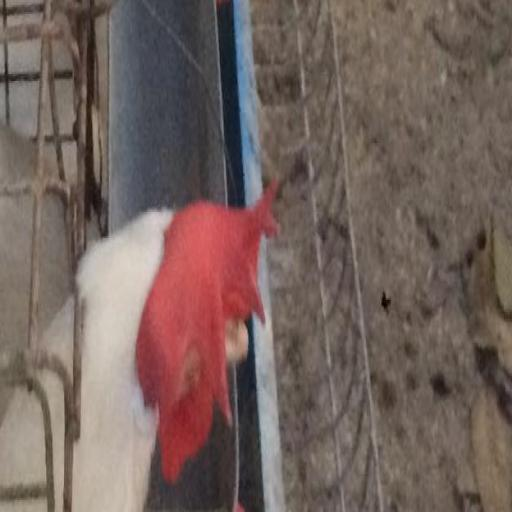healthy: (159, 180, 278, 436)
